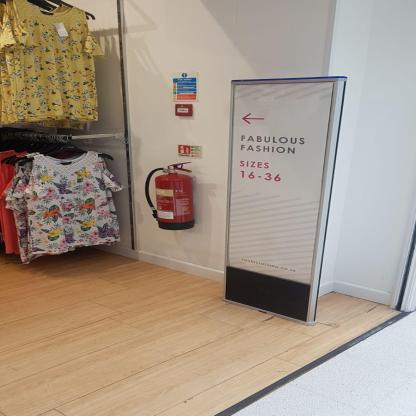Fire Extinguisher: (140, 149, 201, 242)
